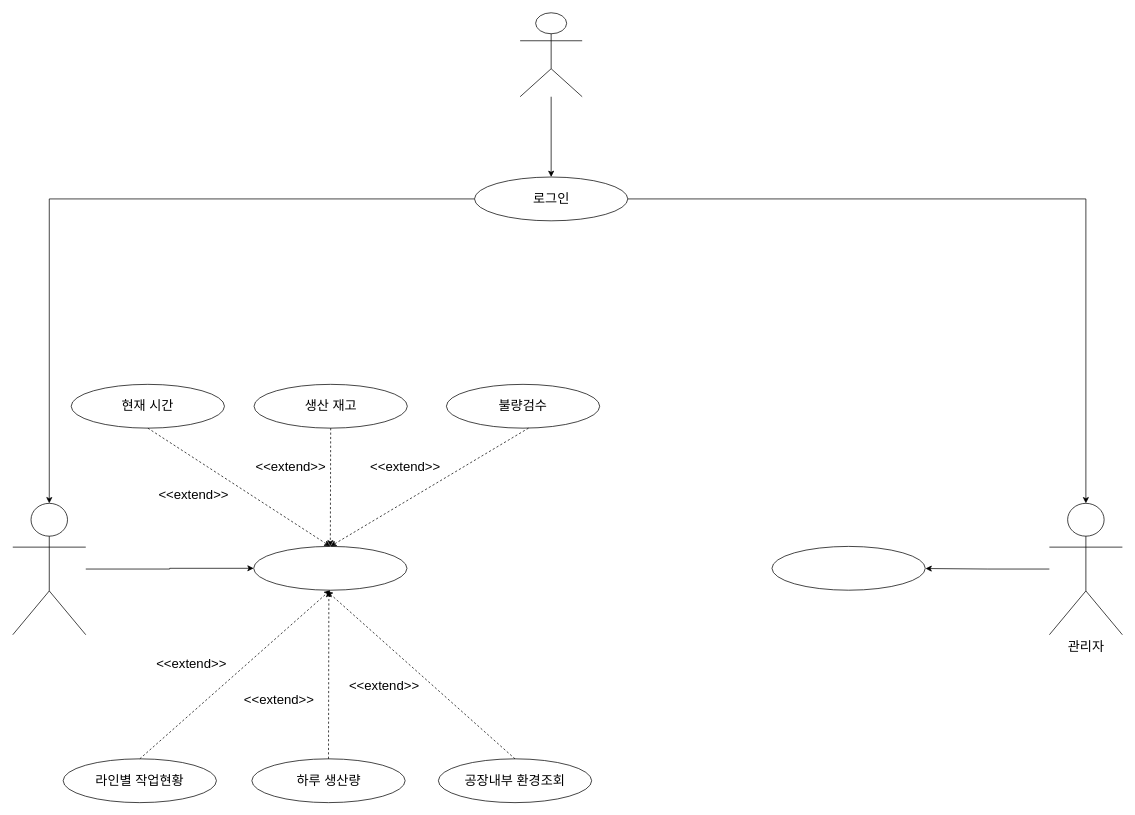
The diagram is 1135 pixels wide and 815 high, and some of its shapes have lost their labels. Here are the shapes that lost their labels. From the top down, the centre of each, then its label:
At (550,54): "사용자".
At (49,569): "작업자".
At (330,568): "실시간 모니터링".
At (848,568): "작업자 계정관리".
